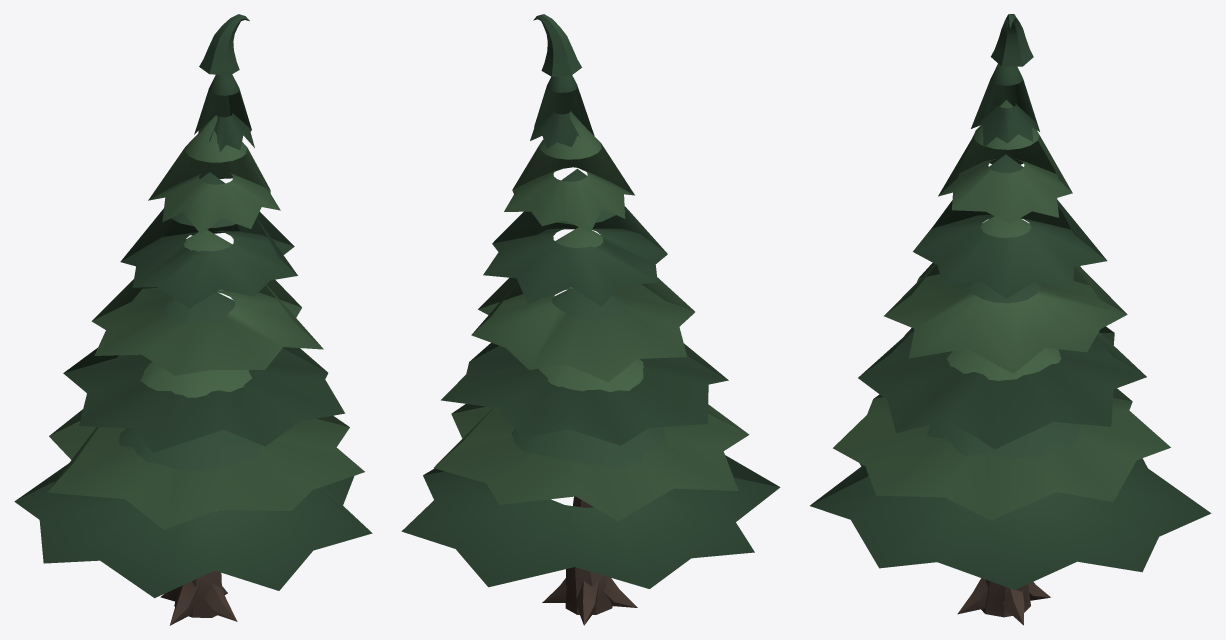
File: env_tree_b.glb
The picture shows the model from 3 angles, left to right: view 1: azimuth 30°, elevation 25°; view 2: azimuth 150°, elevation 25°; view 3: azimuth 270°, elevation 25°; orthographic projection. The views are drawn at different scales.
Parts seen in each view (by area): view 1: env_tree_b; view 2: env_tree_b; view 3: env_tree_b.
Boxes of the visible parts, <box> form: env_tree_b: <box>14,14,372,625</box>; env_tree_b: <box>401,14,780,625</box>; env_tree_b: <box>810,14,1211,625</box>.
Size of the model in its own units: 2.91 by 5.03 by 2.99.
